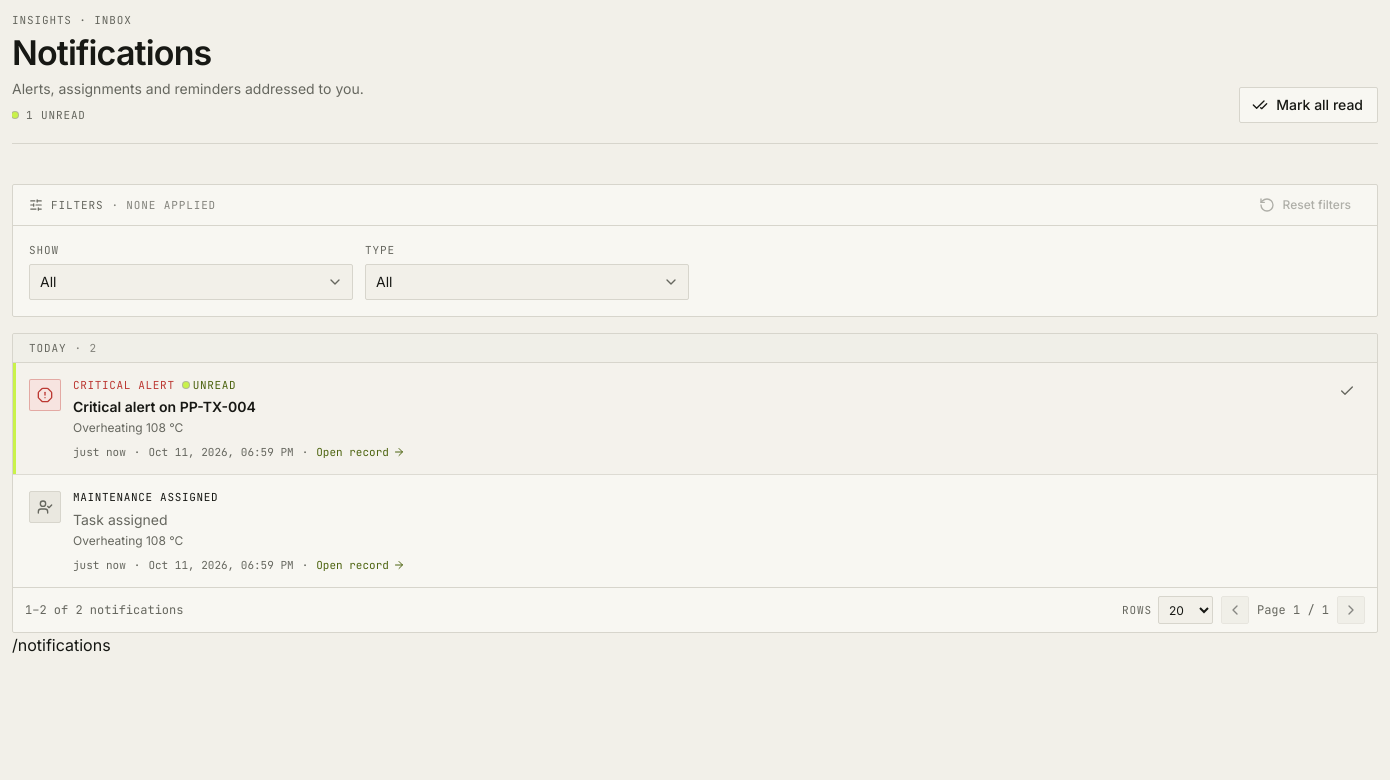
it: NotificationsPage › marks all as read
Expected: the text "Critical alert on PP-TX-004" is shown, [73,398,256,415]
Click the button "Mark all read". click: (1309, 104)
box: [1239,86,1378,122]
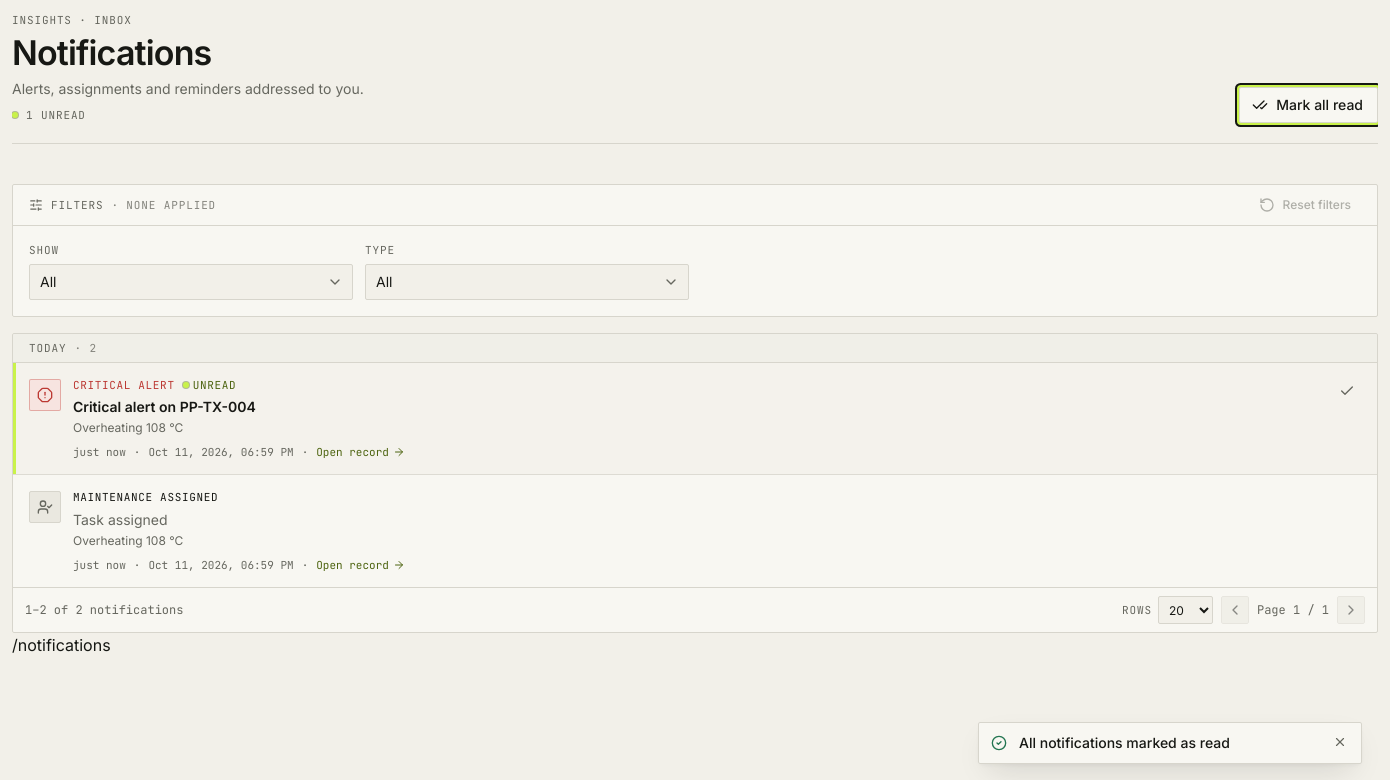
Now the text "All notifications marked as read" is shown, box [1018,733,1230,751]
